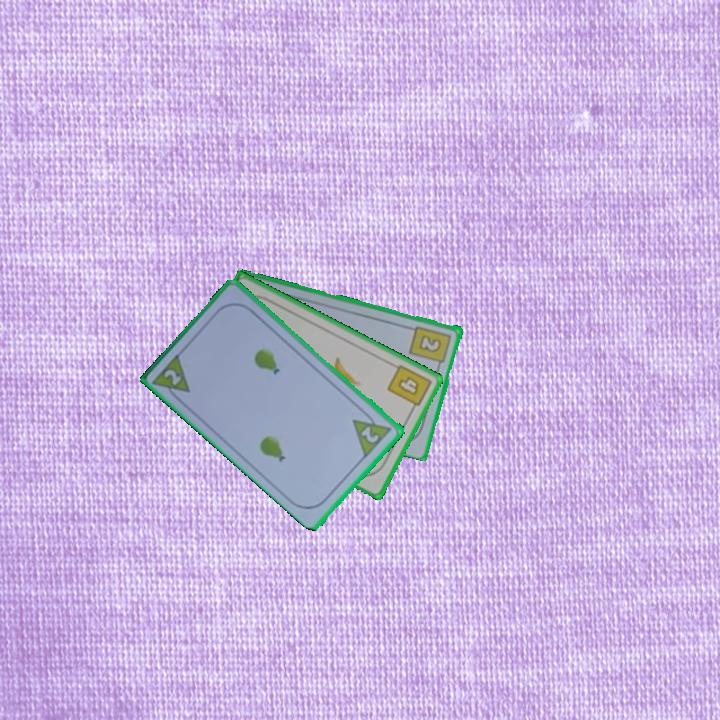2b: (407, 322, 454, 371)
2p: (149, 349, 194, 406), (358, 422, 382, 446)
4b: (383, 361, 434, 415)
